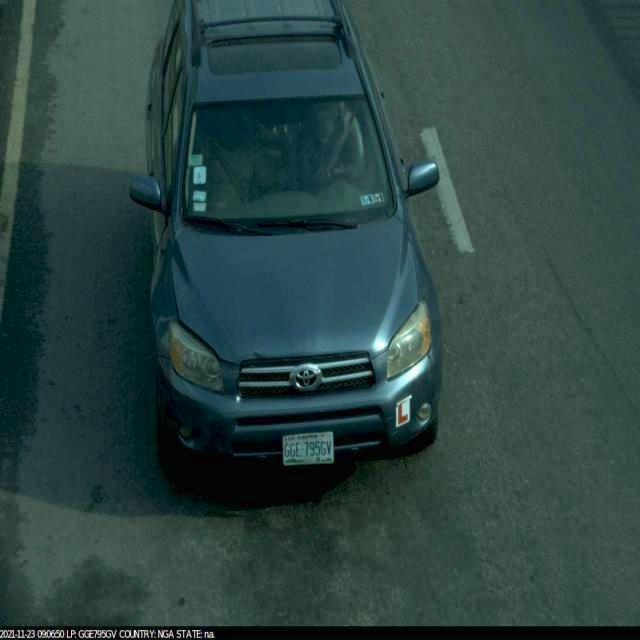person_with_seatbelt: (288, 85, 379, 212)
